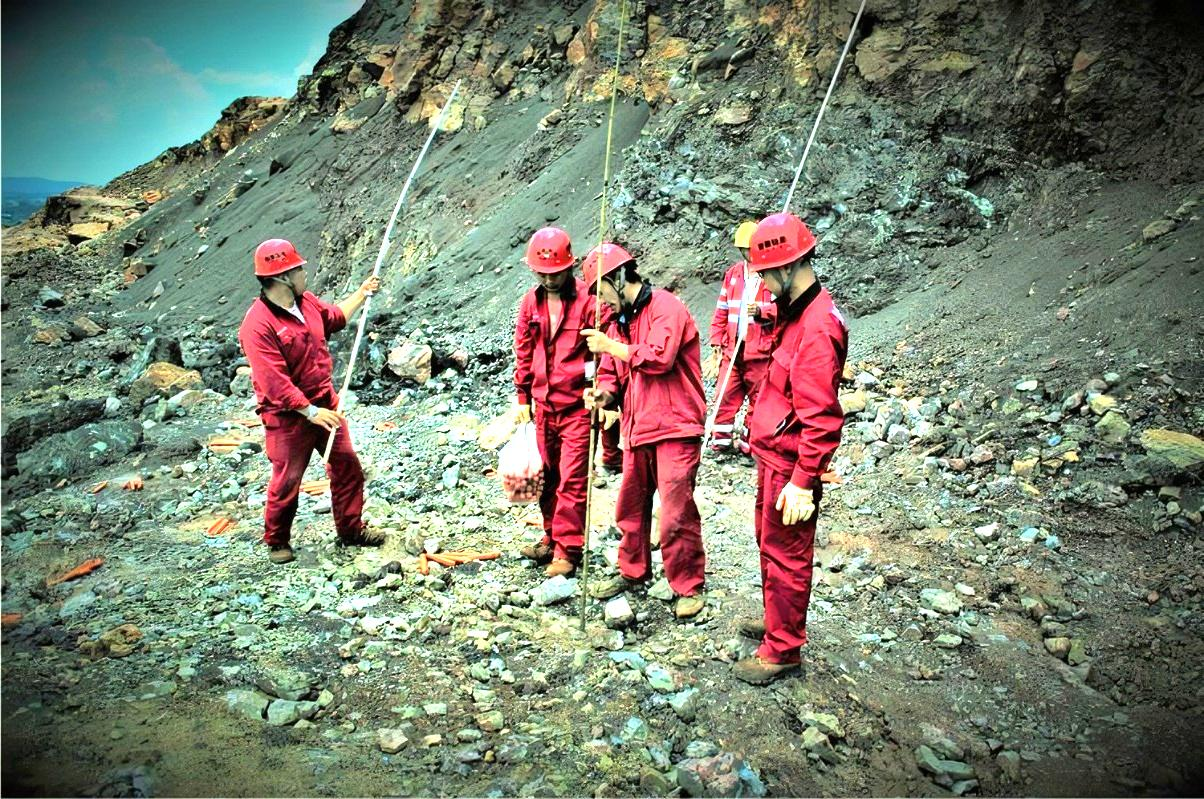helmet: (747, 211, 819, 300), (582, 241, 643, 313), (525, 226, 576, 293), (253, 239, 307, 300), (734, 220, 758, 263)
